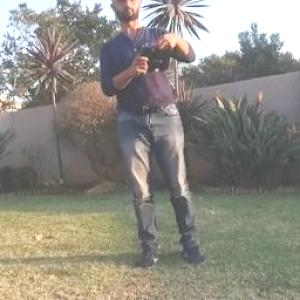follow: (96, 0, 215, 283)
